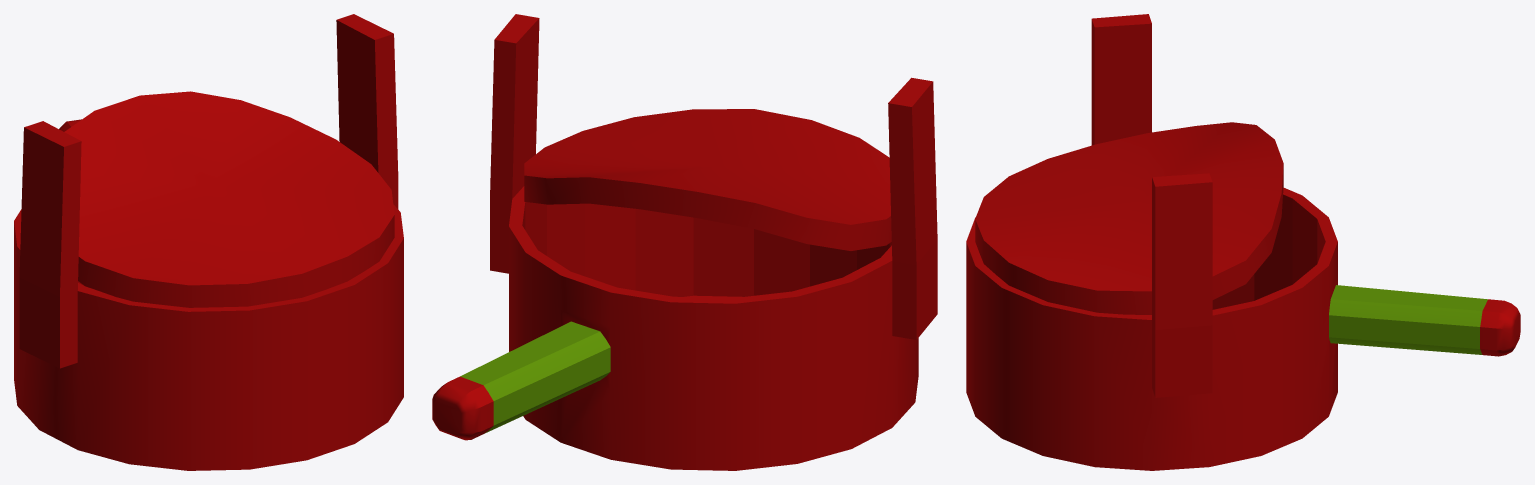
File: PopcronMachine.fbx
3 renders of one model, left to right at view 1: azimuth 30°, elevation 25°; view 2: azimuth 150°, elevation 25°; view 3: azimuth 270°, elevation 25°, orthographic. The views are drawn at different scales.
Parts seen in each view (by area): view 1: pCylinder3; view 2: pCylinder3; view 3: pCylinder3.
Boxes of the visible parts, x1,y1,x2,y2 form: pCylinder3: [14, 14, 403, 470]; pCylinder3: [432, 14, 937, 470]; pCylinder3: [966, 14, 1520, 470].
Size of the model in its own units: 4.79 by 3.69 by 6.34.
